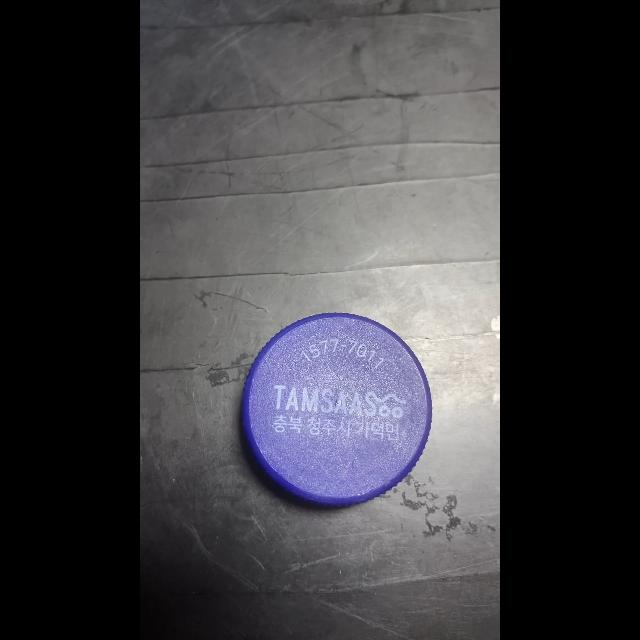plastic_bottle_cap: (240, 309, 432, 511)
